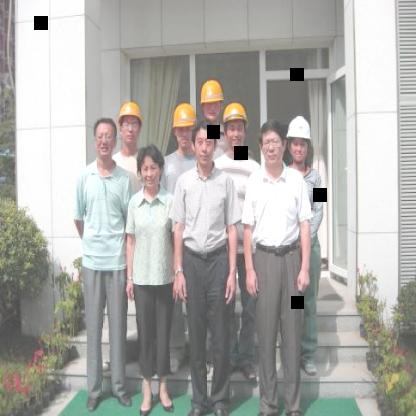head: (135, 142, 165, 196), (258, 117, 287, 170), (92, 113, 119, 164), (192, 121, 218, 169)
helmet: (284, 112, 314, 170), (116, 96, 145, 150), (220, 101, 249, 151), (171, 101, 196, 151), (198, 78, 223, 124)
